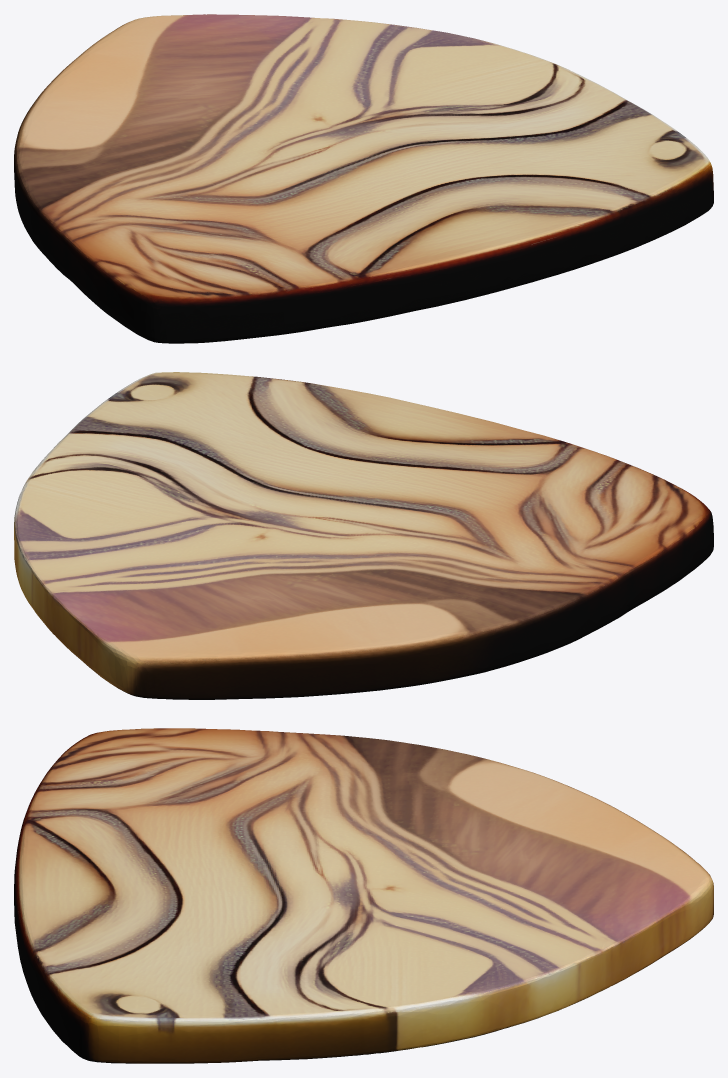
File: wooden-guitar-pick-dune.jpeg.glb
The picture shows the model from 3 angles, top to bottom: view 1: azimuth 30°, elevation 25°; view 2: azimuth 150°, elevation 25°; view 3: azimuth 270°, elevation 25°; orthographic projection. The views are drawn at different scales.
Visible parts, largest first — view 1: world; view 2: world; view 3: world.
Boxes of the visible parts, x1,y1,x2,y2 form: world: (14, 14, 713, 343); world: (14, 372, 713, 699); world: (14, 728, 713, 1063).
Size of the model in its own units: 0.9997 by 0.078 by 0.9996.
1 material, 1 textured.
